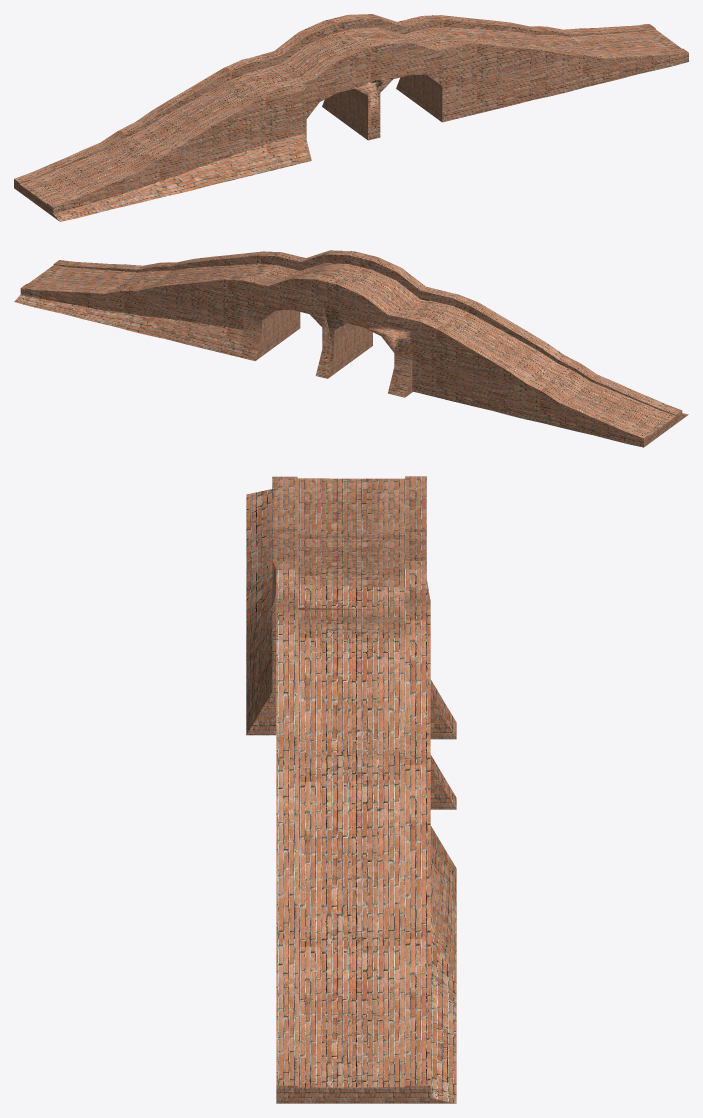
File: Bruecke.obj
The picture shows the model from 3 angles, top to bottom: view 1: azimuth 30°, elevation 25°; view 2: azimuth 150°, elevation 25°; view 3: azimuth 270°, elevation 25°; orthographic projection. The views are drawn at different scales.
Parts seen in each view (by area): view 1: Box008; view 2: Box008; view 3: Box008.
Boxes of the visible parts, x1,y1,x2,y2 form: Box008: (14,14,688,221); Box008: (14,250,688,447); Box008: (246,476,456,1103).
Size of the model in its own units: 369 by 51.16 by 53.99.
Materials: 1 (1 with a texture image).
